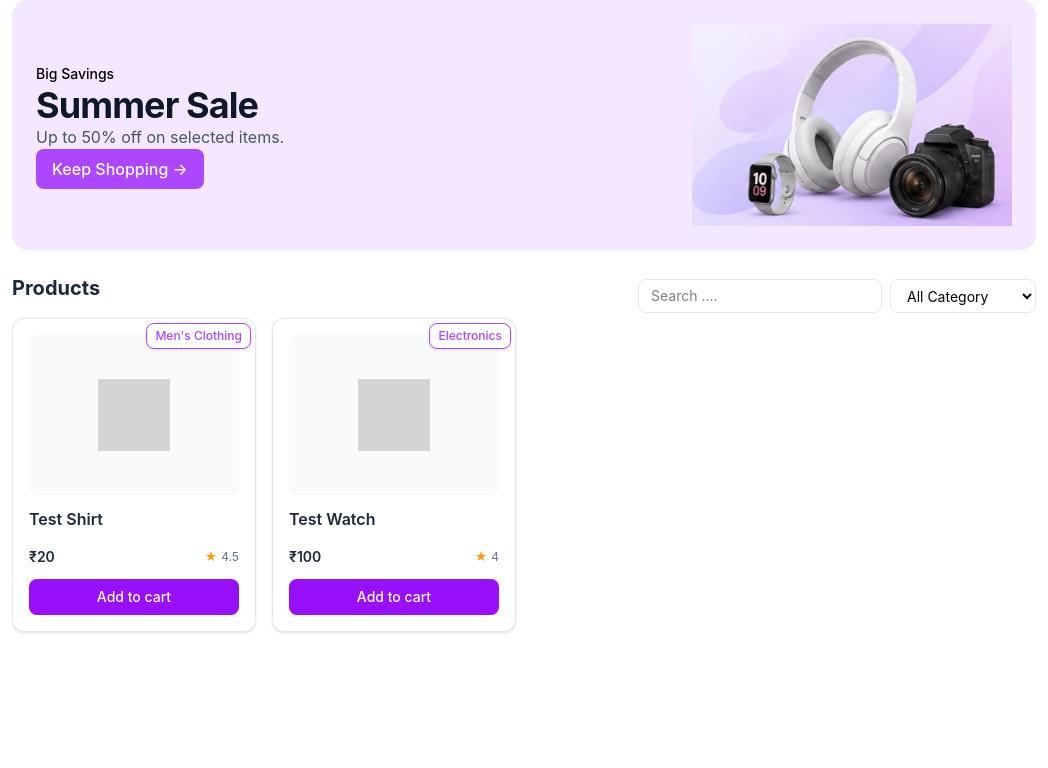
Test: ProductList › filters products by search term
Check: the heading "Test Shirt" is shown, box [29, 509, 103, 529]
Check: the heading "Test Watch" is shown, box [289, 509, 376, 529]
Type "Shirt" into the field with placeholder "Search ...." at x=760, y=296, box [638, 279, 882, 313]
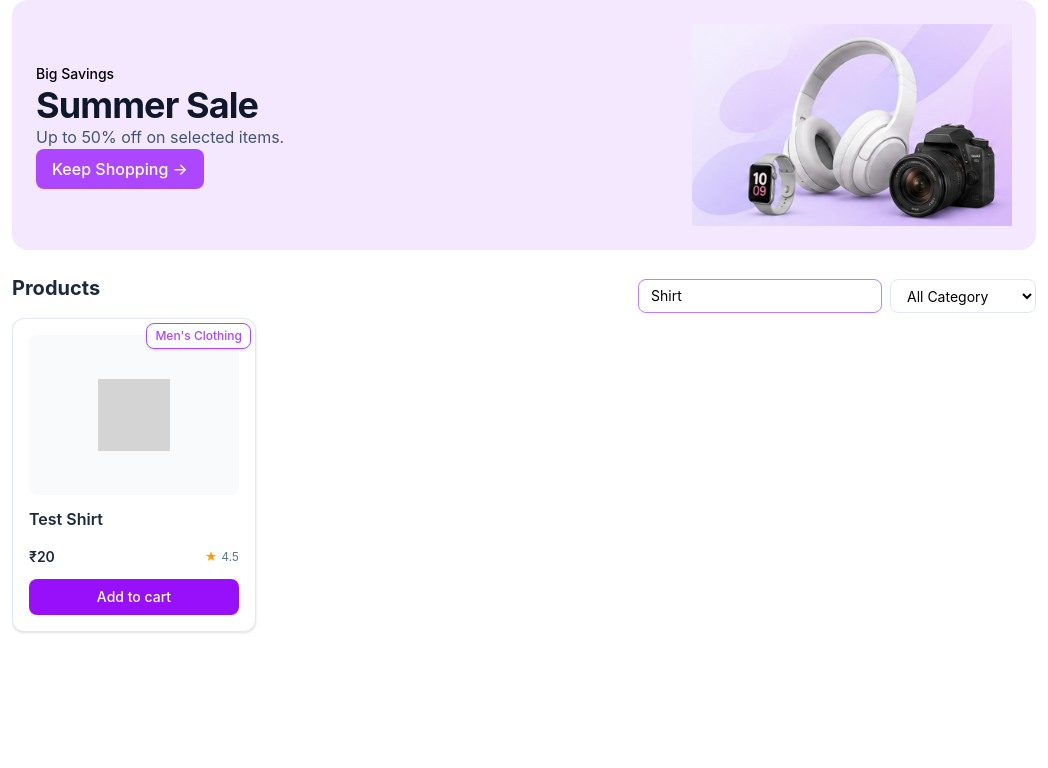
Check: the heading "Test Shirt" is shown, box [29, 509, 103, 529]
Check: the heading "Test Watch" is gone
